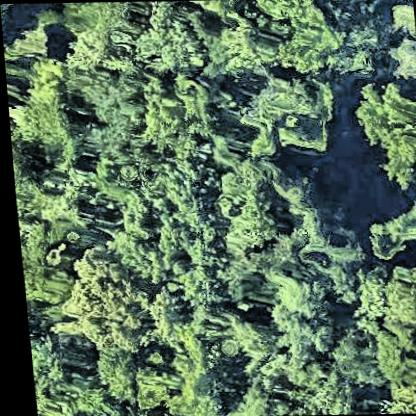tree-top: (42, 245, 159, 354), (100, 171, 219, 275), (233, 70, 337, 160), (125, 69, 222, 158), (3, 54, 79, 164), (345, 76, 416, 189), (120, 334, 213, 416), (223, 360, 342, 416), (261, 284, 338, 367), (65, 74, 140, 159), (15, 223, 86, 306), (340, 264, 416, 338), (264, 2, 344, 69), (129, 12, 208, 76), (208, 182, 275, 250), (352, 198, 416, 259), (60, 21, 127, 76), (320, 328, 375, 390), (83, 347, 141, 400), (369, 319, 416, 380), (383, 362, 416, 413)
